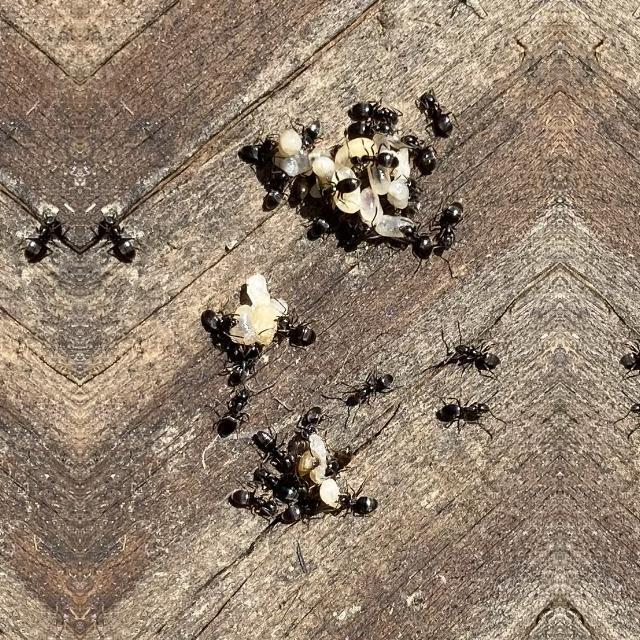Tapinoma: (82, 194, 144, 272), (15, 194, 76, 272), (338, 357, 398, 415), (425, 193, 469, 269), (434, 389, 498, 438), (447, 326, 505, 380), (305, 208, 363, 256), (210, 386, 256, 446), (271, 304, 319, 356), (416, 84, 459, 142), (286, 398, 326, 458), (250, 422, 296, 474), (226, 482, 278, 526), (392, 209, 431, 265), (288, 172, 320, 238), (221, 336, 263, 386), (328, 482, 378, 524), (233, 128, 279, 170), (250, 462, 298, 502), (346, 140, 396, 178), (400, 126, 438, 174), (351, 89, 401, 125), (280, 490, 320, 532), (260, 166, 292, 218), (324, 428, 356, 480), (347, 114, 397, 146), (198, 298, 242, 334), (316, 172, 359, 208), (292, 110, 324, 158), (397, 164, 428, 213), (612, 326, 640, 380), (620, 388, 640, 438)
